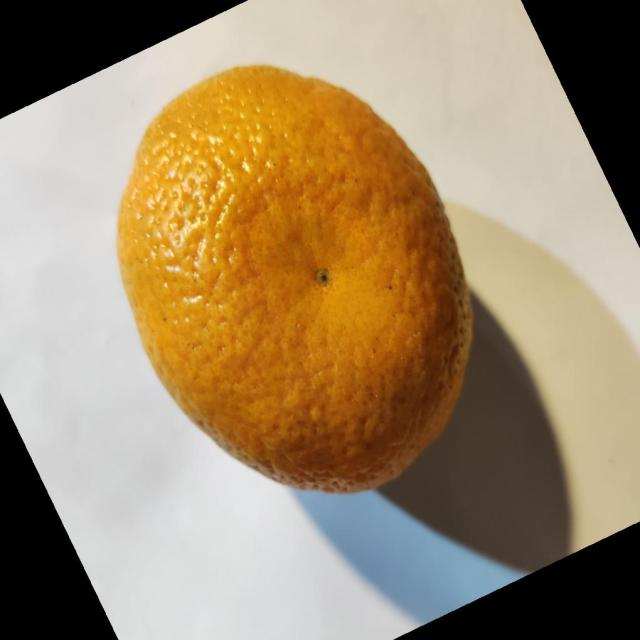fresh orange: (115, 63, 474, 494)
